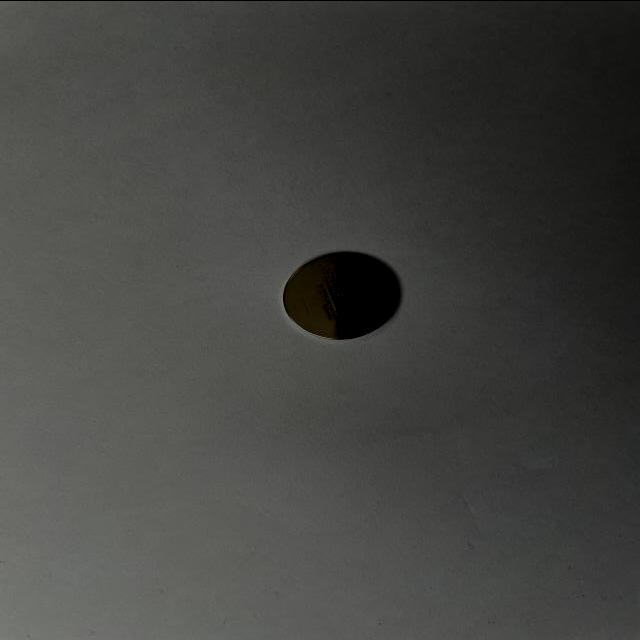COIN: (278, 250, 402, 340)
